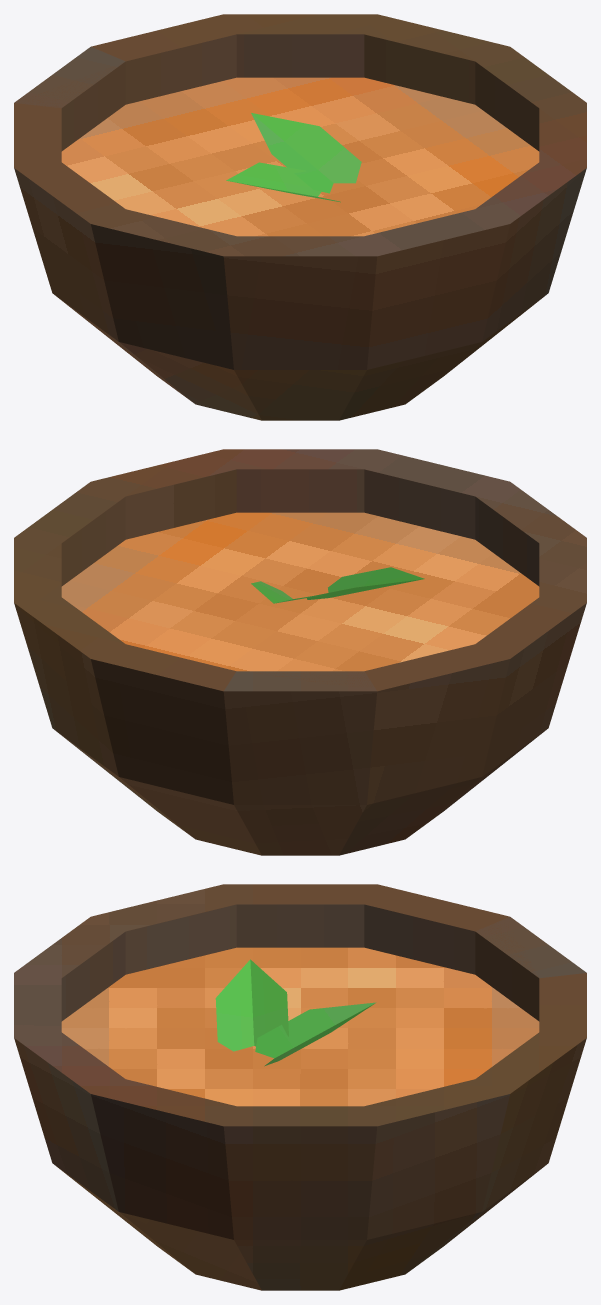
The model's file is carrot_soup-optimized.glb.
3 renders of one model, top to bottom at view 1: azimuth 30°, elevation 25°; view 2: azimuth 150°, elevation 25°; view 3: azimuth 270°, elevation 25°, orthographic.
Parts seen in each view (by area): view 1: sphere, plane (×2); view 2: sphere, plane; view 3: sphere, plane (×2).
Boxes of the visible parts, left/top/right/bottom form: sphere: left=14, top=14, right=586, bottom=420; plane (×2): left=226, top=113, right=361, bottom=202; sphere: left=14, top=449, right=586, bottom=855; plane: left=307, top=567, right=424, bottom=599; sphere: left=14, top=884, right=586, bottom=1290; plane (×2): left=215, top=959, right=376, bottom=1066.
Bounding box in the file's own units: 0.75 × 0.375 × 0.75.
2 materials, 2 textured.
